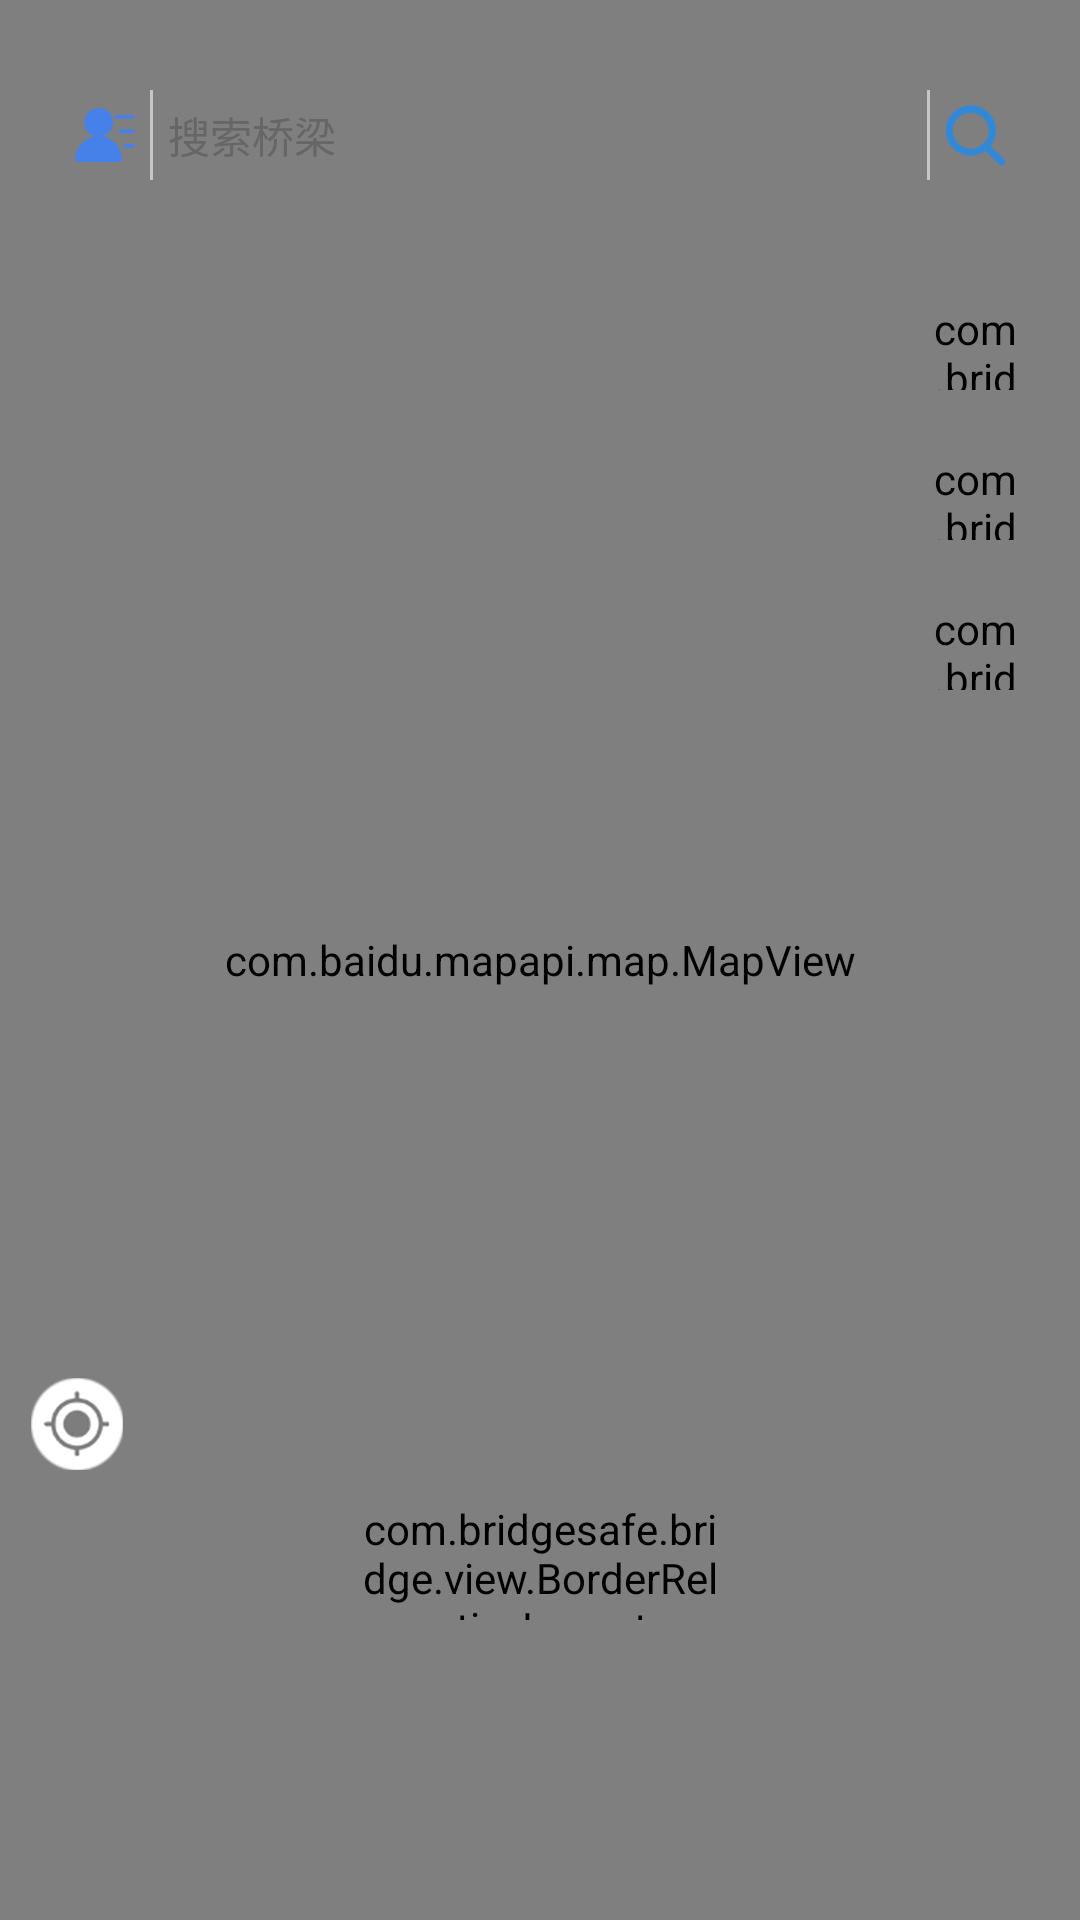

Where icons sit on this 1080*1920 app screen, as (x1, y1, x2, y2):
locntion: (31, 1378, 123, 1470)
member: (75, 108, 135, 162)
search: (946, 105, 1005, 165)
